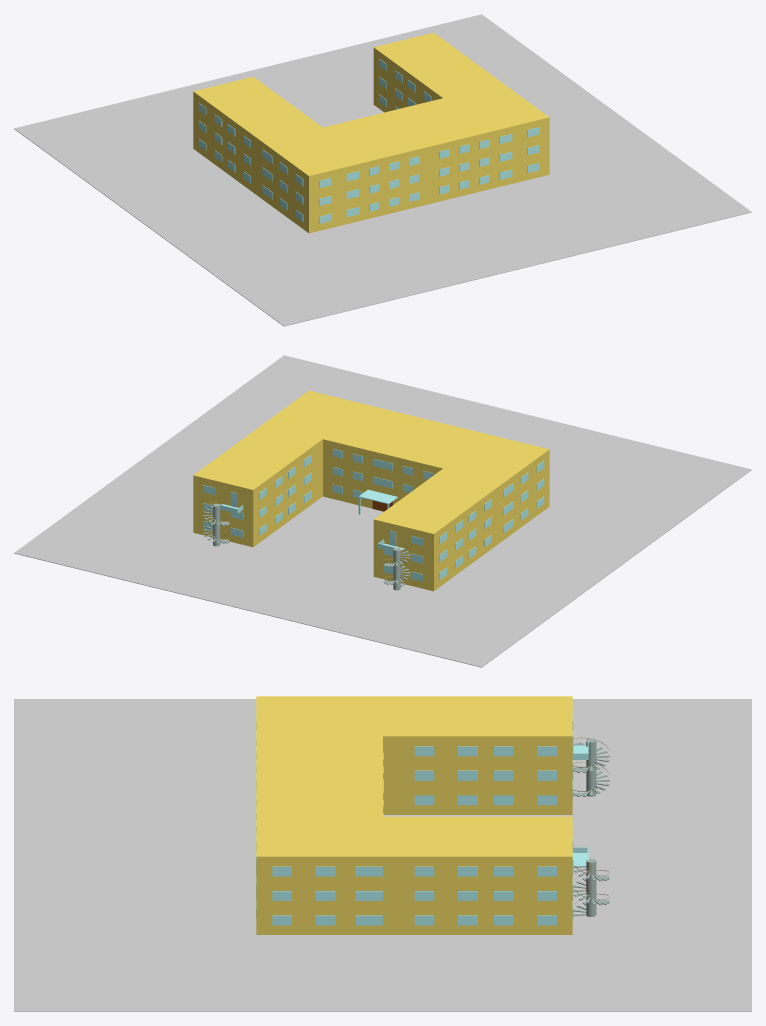
Rendered from town_hall.fbx.
3 views of the same model, one above another, from view 1: azimuth 30°, elevation 25°; view 2: azimuth 150°, elevation 25°; view 3: azimuth 270°, elevation 25° (orthographic). The views are drawn at different scales.
Visible parts, largest first — view 1: Townhall_Ground, Townhall; view 2: Townhall_Ground, Townhall, Stairs; view 3: Townhall_Ground, Townhall, Stairs.
Part boxes in pixels (bbox=[...]): Townhall_Ground: bbox=[14, 14, 751, 326]; Townhall: bbox=[193, 32, 549, 233]; Townhall_Ground: bbox=[14, 355, 751, 667]; Townhall: bbox=[193, 390, 549, 591]; Stairs: bbox=[203, 489, 410, 590]; Townhall_Ground: bbox=[14, 699, 751, 1011]; Townhall: bbox=[256, 696, 573, 934]; Stairs: bbox=[572, 737, 609, 916].
Bounding box in the file's own units: 14000 × 1655 × 14000.
